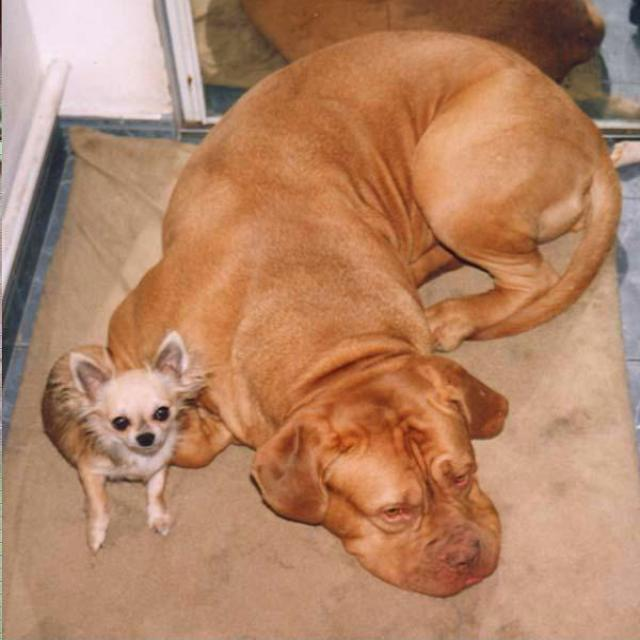chihuahua: (41, 332, 214, 554)
